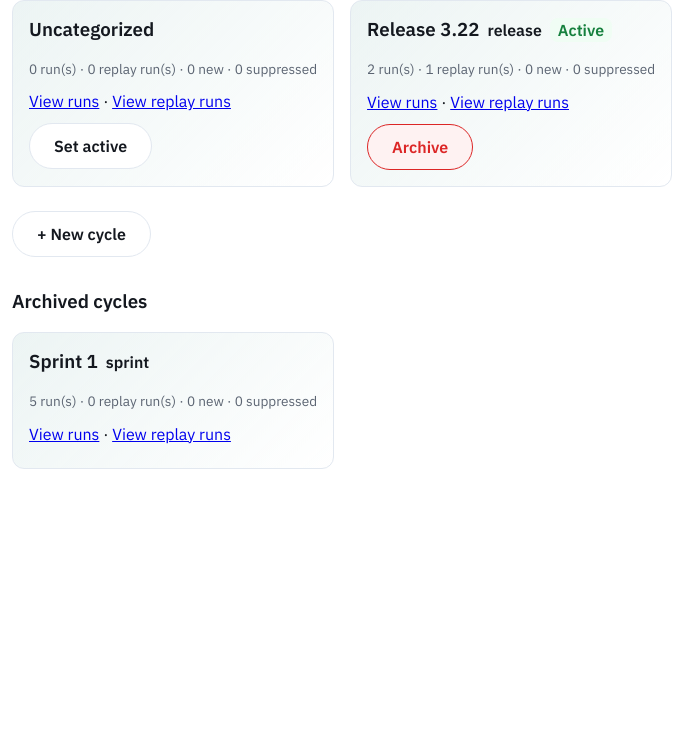
Test: CycleList (run-cycles-spec.md §4 — cycle management + overview, one unified page) › creating a cycle shows the form, then hides it again on success
This screenshot has width=689, height=744.
expect the heading "Release 3.22 release Active" is shown: met, box 367,17 -> 655,42
Click the button "+ New cycle" at (81, 234), box 12,211 -> 151,257
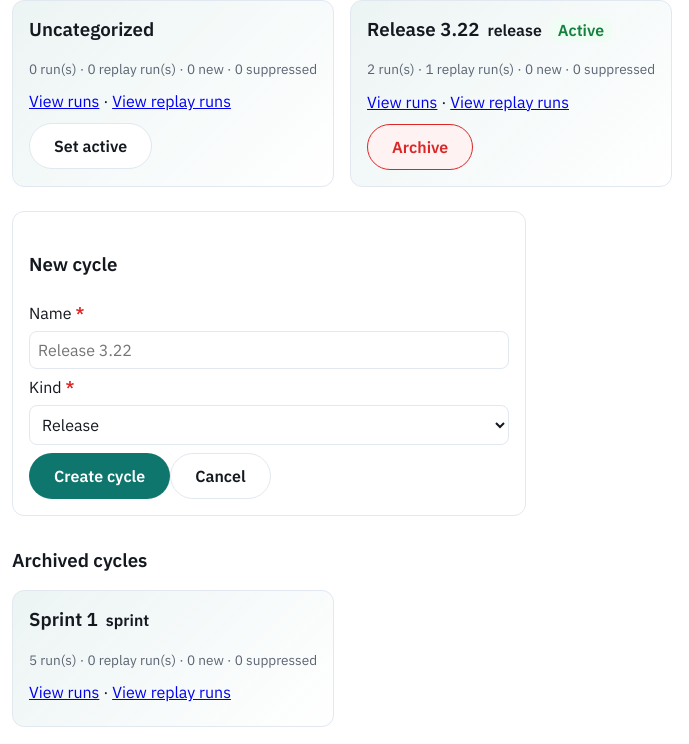
expect the heading "New cycle" is shown: met, box 29,252 -> 117,276
Type "Release 3.23" into the field labelled "Name" at (269, 350), box 29,331 -> 509,369
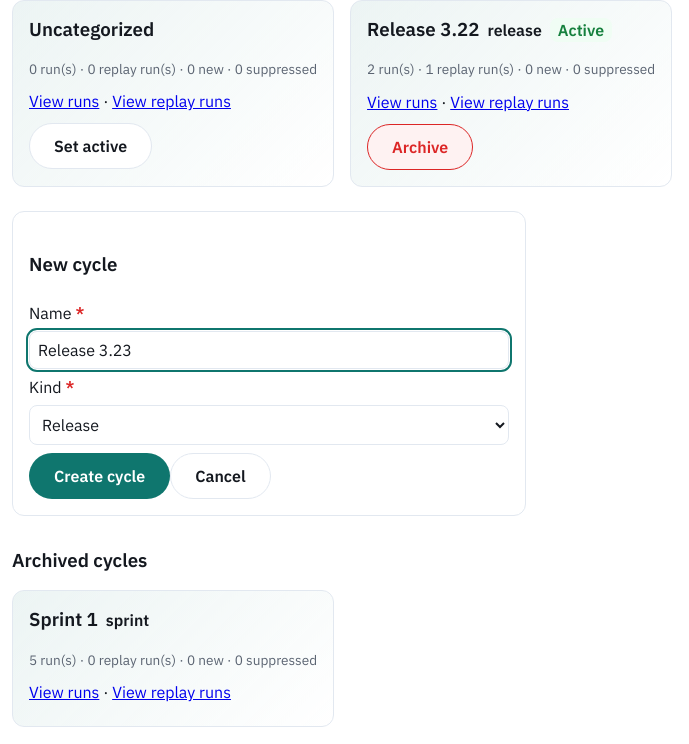
Click the button "Create cycle" at (100, 476), box 29,453 -> 170,499
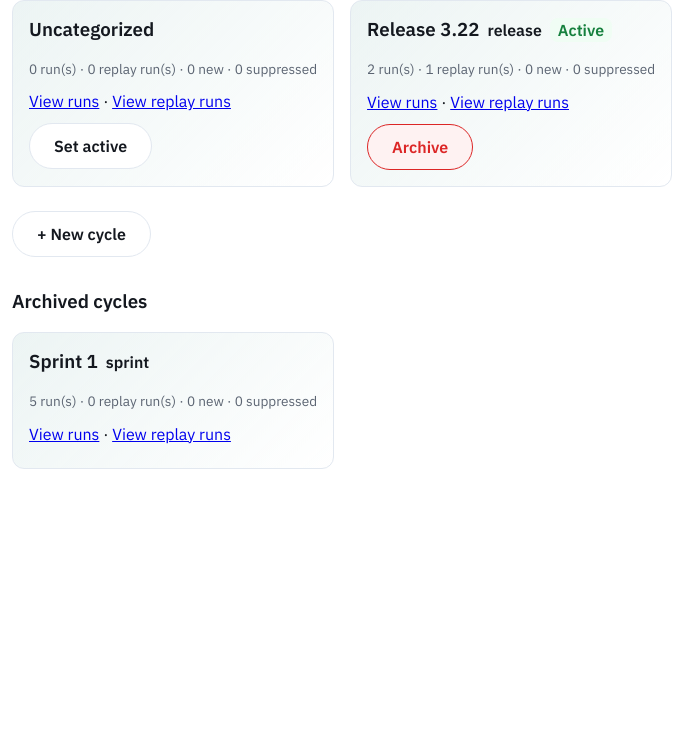
expect the button "+ New cycle" is shown: met, box 12,211 -> 151,257
